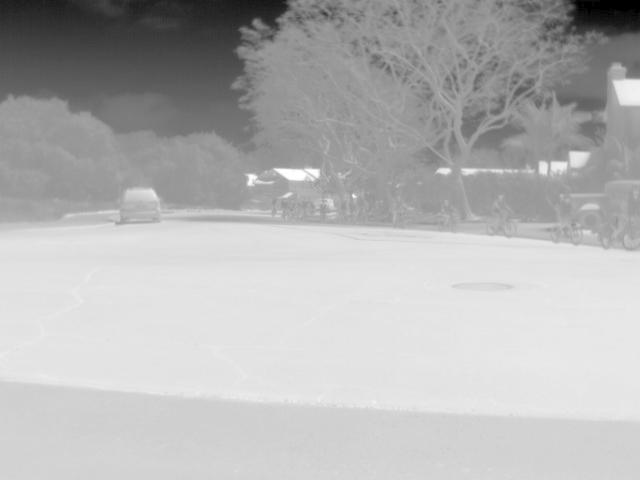car: (566, 178, 640, 233), (115, 184, 163, 224)
person: (554, 190, 575, 236), (491, 193, 515, 229), (393, 193, 415, 222), (438, 198, 459, 225)
